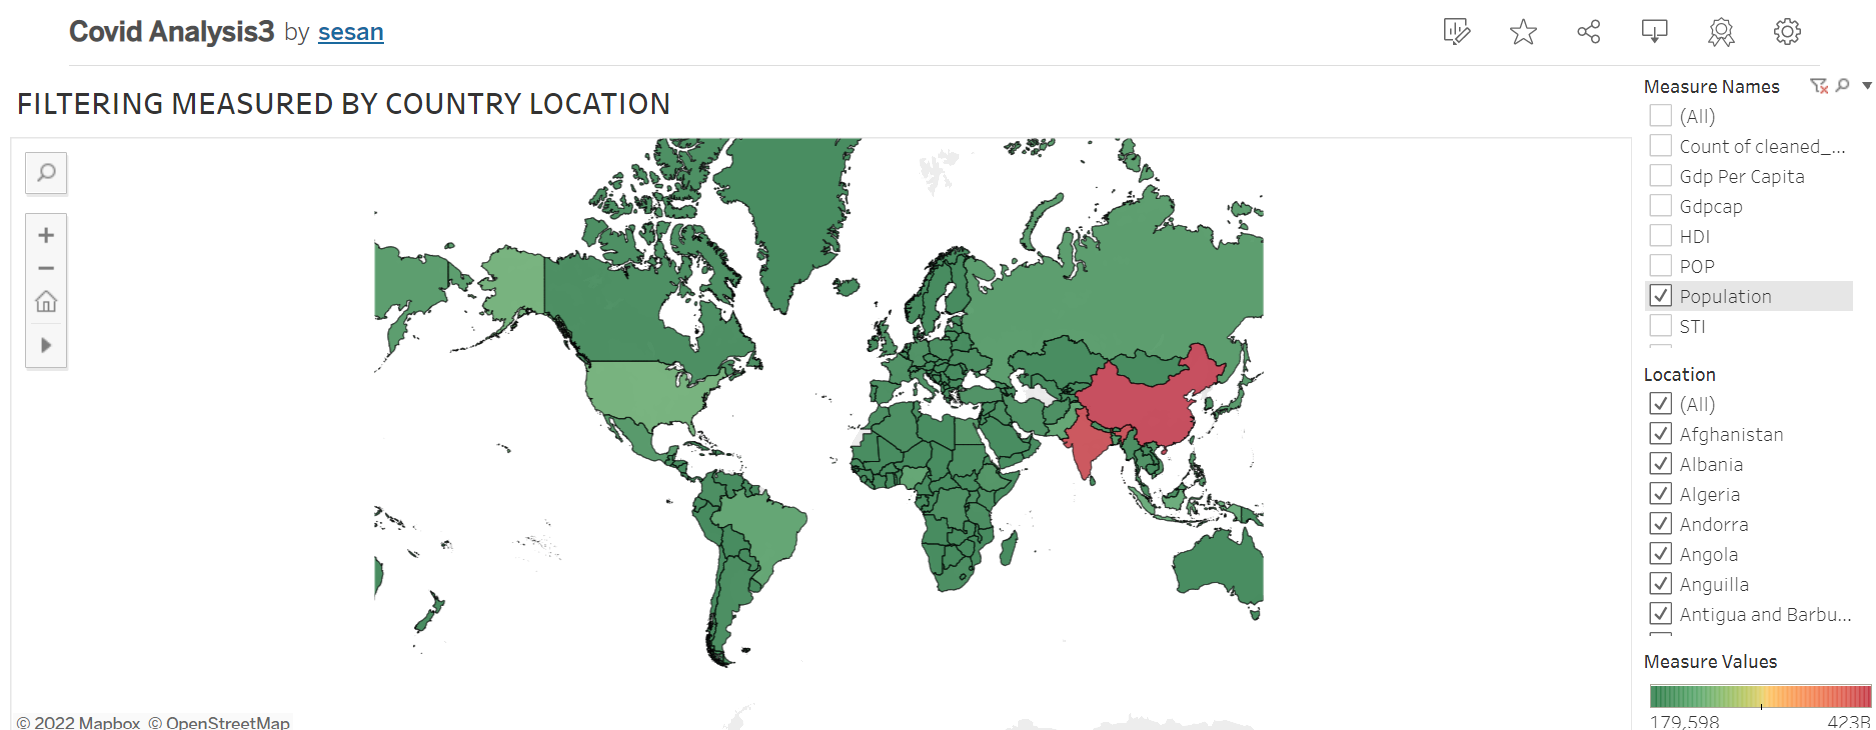

The dashboard page shown, as its layout file describes it:
{"tool":"tableau","page":{"name":"Dashboard 4","canvas":[1000,1000],"units":"permille","ordinal":1},"visuals":[{"type":"worksheet","title":"Sheet 1","mark":"Automatic","cols":["date"],"box":[5.2,9.9,831.6,980.2]},{"type":"filter","title":"Sheet 1","param":"[federated.1h7e9fa16st54d144zt0b0s0wyhs].[my:date:ok]","box":[836.8,9.9,158.1,302.4]},{"type":"filter","title":"Sheet 1","param":"[federated.1h7e9fa16st54d144zt0b0s0wyhs].[none:location:nk]","box":[836.8,312.3,158.1,302.4]},{"type":"filter","title":"Sheet 1","param":"[federated.1h7e9fa16st54d144zt0b0s0wyhs].[:Measure Names]","box":[836.8,614.6,158.1,302.4]},{"type":"legend","title":"Sheet 1","param":"[federated.1h7e9fa16st54d144zt0b0s0wyhs].[yr:date:ok]","box":[836.8,917,158.1,73.1]}]}

Visuals, with their boxes on the dashboard's canvas, which has no fixed pixel size, in thousandths of its width and height (x1, y1, x2, y2). These are canvas units, not pixel positions in the 1876x730 screenshot, which may show the page scaled, cropped or inside an application window:
"Sheet 1" worksheet: (x1=5, y1=10, x2=837, y2=990)
"Sheet 1" filter: (x1=837, y1=10, x2=995, y2=312)
"Sheet 1" filter: (x1=837, y1=312, x2=995, y2=615)
"Sheet 1" filter: (x1=837, y1=615, x2=995, y2=917)
"Sheet 1" legend: (x1=837, y1=917, x2=995, y2=990)
